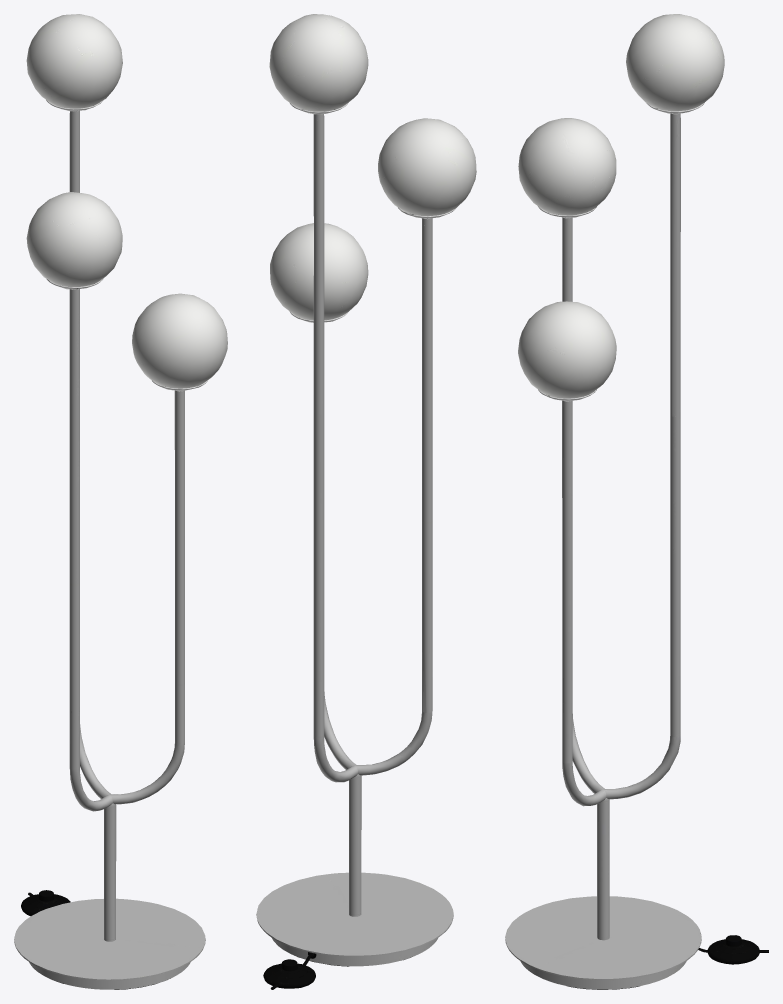
File: simrishamn_lampa_podogowa_10437765.glb
The picture shows the model from 3 angles, left to right: view 1: azimuth 30°, elevation 25°; view 2: azimuth 150°, elevation 25°; view 3: azimuth 270°, elevation 25°; orthographic projection. The views are drawn at different scales.
Visible parts, largest first — view 1: simrishamn_lampa_podogowa_10437765; view 2: simrishamn_lampa_podogowa_10437765; view 3: simrishamn_lampa_podogowa_10437765.
Boxes of the visible parts, box(x1,y1,x2,y2) form: simrishamn_lampa_podogowa_10437765: box(14, 14, 227, 989); simrishamn_lampa_podogowa_10437765: box(256, 14, 476, 989); simrishamn_lampa_podogowa_10437765: box(505, 14, 768, 989).
Bounding box in the file's own units: 0.3414 × 1.58 × 0.4032.
1 material, 1 textured.
